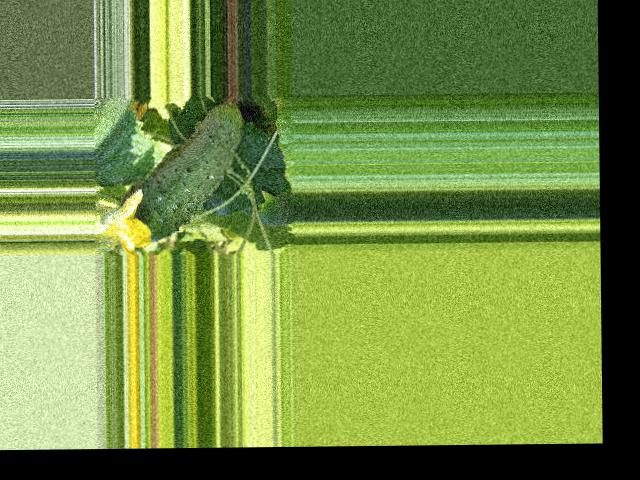cucumber: (118, 95, 245, 242)
